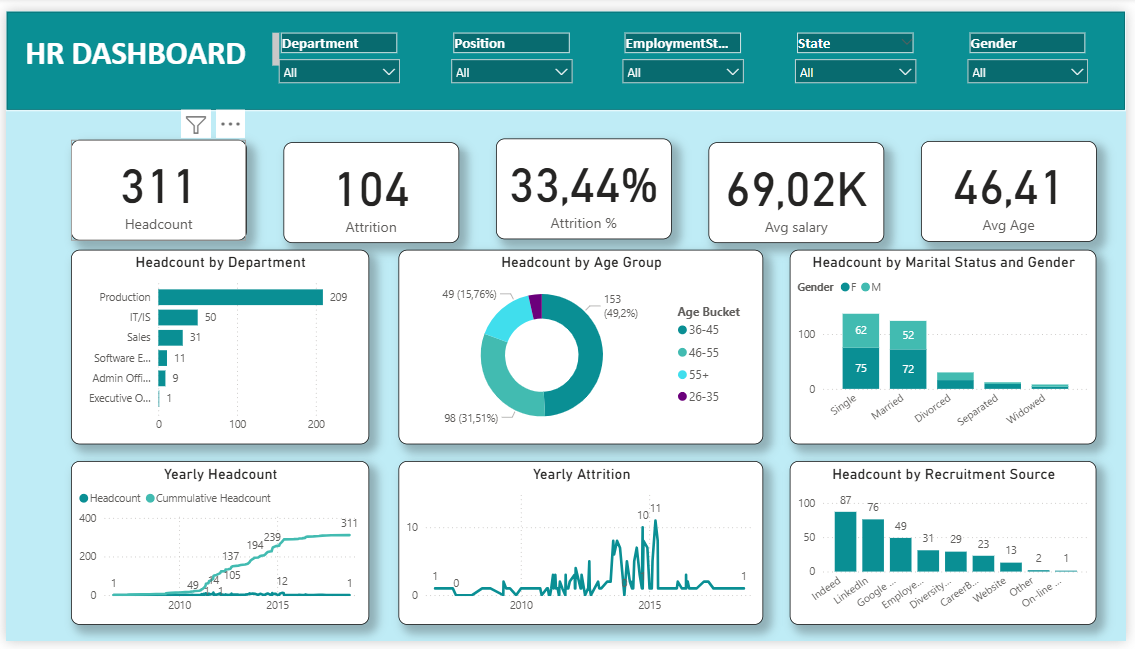

This screenshot's page, from the dashboard's own definition file:
{"tool":"powerbi","page":{"name":"Page 1","canvas":[1280,720],"ordinal":0},"visuals":[{"type":"shape","box":[0,0,1280,114.3],"z":0},{"type":"card","fields":{"Values":["Measure.Headcount"]},"box":[73.6,147.2,200.5,115],"z":1000},{"type":"card","fields":{"Values":["Measure.Attrition"]},"box":[316.7,150,200.5,115],"z":2000},{"type":"card","fields":{"Values":["Measure.Attrition %"]},"box":[559.8,145.7,200.5,115],"z":3000},{"type":"card","fields":{"Values":["Measure.Avg salary"]},"box":[802.9,150,200.5,115],"z":4000},{"type":"card","fields":{"Values":["Measure.Avg Age"]},"box":[1046,148.6,200.5,115],"z":5000},{"type":"clusteredBarChart","fields":{"Y":["Measure.Headcount"],"Category":["HRDataset_v14.Department"]},"box":[73.6,272.7,340.5,222.2],"z":6000},{"type":"donutChart","title":"Headcount by Age Group","fields":{"Category":["HRDataset_v14.Age Bucket"],"Y":["Measure.Headcount"]},"box":[448.7,272.7,417,222.2],"z":7000},{"type":"columnChart","title":"Headcount by Marital Status and Gender","fields":{"Y":["Measure.Headcount"],"Category":["HRDataset_v14.MaritalDesc"],"Series":["HRDataset_v14.Gender"]},"box":[896,272.7,350.6,222.2],"z":8000},{"type":"lineChart","title":"Yearly Headcount","fields":{"Y":["Measure.Headcount","Measure.Cummulative Headcount"],"Category":["HRDataset_v14.DateofHire"]},"box":[73.6,513.6,340.5,187.6],"z":9000},{"type":"lineChart","title":"Yearly Attrition","fields":{"Y":["Sum(HRDataset_v14.Attrition)"],"Category":["HRDataset_v14.DateofHire"]},"box":[448.7,513.6,417,187.6],"z":10000},{"type":"columnChart","title":"Headcount by Recruitment  Source","fields":{"Y":["Measure.Headcount"],"Category":["HRDataset_v14.RecruitmentSource"]},"box":[896,513.6,350.6,187.6],"z":11000},{"type":"slicer","fields":{"Values":["HRDataset_v14.Department"]},"box":[301.5,20.2,158.7,67.8],"z":12000},{"type":"slicer","fields":{"Values":["HRDataset_v14.Position"]},"box":[498.2,20.2,158.7,67.8],"z":13000},{"type":"slicer","fields":{"Values":["HRDataset_v14.EmploymentStatus"]},"box":[694.8,20.2,158.7,67.8],"z":14000},{"type":"slicer","fields":{"Values":["HRDataset_v14.State"]},"box":[891.5,20.2,158.7,67.8],"z":15000},{"type":"slicer","fields":{"Values":["HRDataset_v14.Gender"]},"box":[1088.1,19.9,158,68],"z":16000},{"type":"textbox","box":[17.1,20,300,51.4],"z":17000}]}

Visuals, with their boxes in screenshot pixels (x1, y1, x2, y2), scaled from the page's 1280x720 canvas onto the 1135x649 screenshot:
shape: locate(0, 0, 1134, 103)
card - Measure.Headcount: locate(65, 133, 243, 236)
card - Measure.Attrition: locate(281, 135, 459, 239)
card - Measure.Attrition %: locate(496, 131, 674, 235)
card - Measure.Avg salary: locate(712, 135, 890, 239)
card - Measure.Avg Age: locate(928, 134, 1105, 238)
clusteredBarChart - Measure.Headcount x HRDataset_v14.Department: locate(65, 246, 367, 446)
"Headcount by Age Group" donutChart: locate(398, 246, 768, 446)
"Headcount by Marital Status and Gender" columnChart: locate(794, 246, 1105, 446)
"Yearly Headcount" lineChart: locate(65, 463, 367, 632)
"Yearly Attrition" lineChart: locate(398, 463, 768, 632)
"Headcount by Recruitment  Source" columnChart: locate(794, 463, 1105, 632)
slicer - HRDataset_v14.Department: locate(267, 18, 408, 79)
slicer - HRDataset_v14.Position: locate(442, 18, 582, 79)
slicer - HRDataset_v14.EmploymentStatus: locate(616, 18, 757, 79)
slicer - HRDataset_v14.State: locate(791, 18, 931, 79)
slicer - HRDataset_v14.Gender: locate(965, 18, 1105, 79)
textbox: locate(15, 18, 281, 64)
